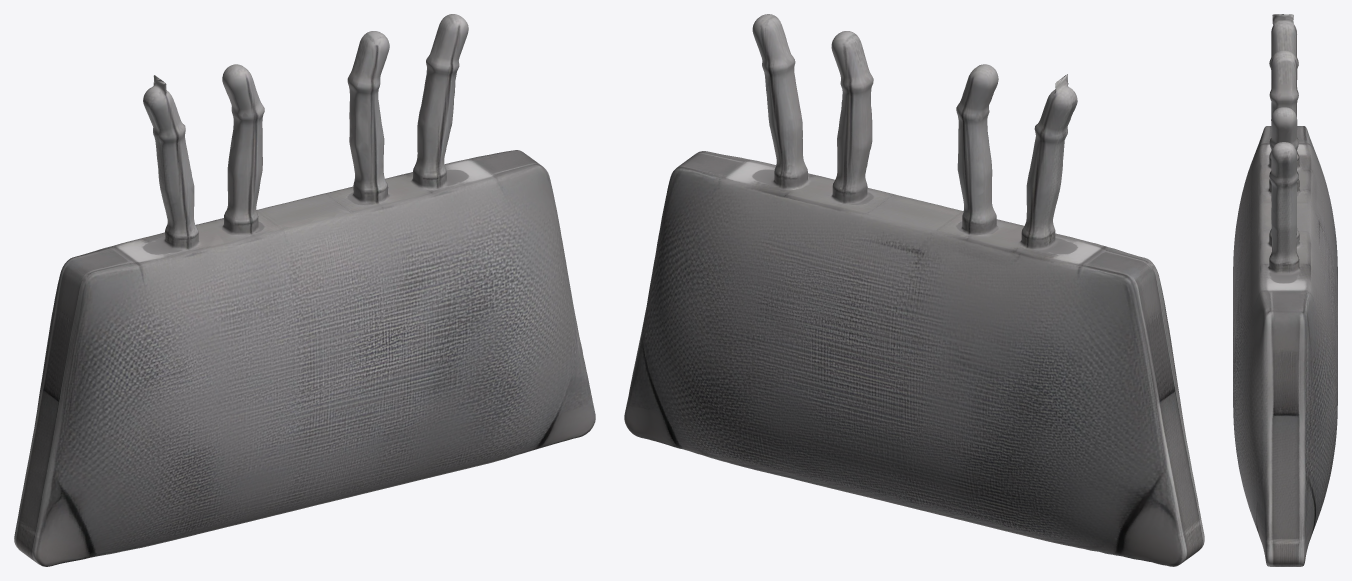
Rendered from vet_v2_instr_vet_equip_blood_smear.glb.
3 renders of one model, left to right at view 1: azimuth 30°, elevation 25°; view 2: azimuth 150°, elevation 25°; view 3: azimuth 270°, elevation 25°, orthographic. The views are drawn at different scales.
Parts seen in each view (by area): view 1: model; view 2: model; view 3: model.
Boxes of the visible parts, box(x1,y1,x2,y2) form: model: box(14, 14, 595, 566); model: box(624, 14, 1204, 566); model: box(1233, 14, 1337, 566).
Size of the model in its own units: 1.9 by 1.46 by 0.3641.
Materials: 1 (1 with a texture image).
